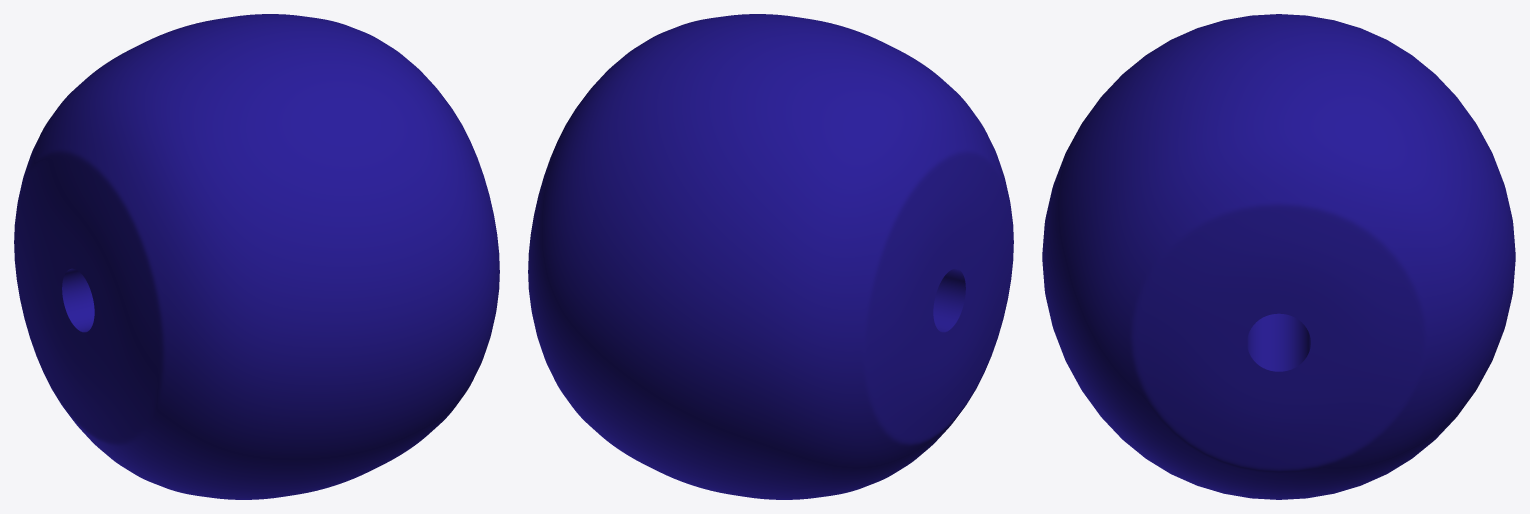
File: 蓝玛瑙.glb
3 renders of one model, left to right at view 1: azimuth 30°, elevation 25°; view 2: azimuth 150°, elevation 25°; view 3: azimuth 270°, elevation 25°, orthographic.
Visible parts, largest first — view 1: JewelCAD_2; view 2: JewelCAD_2; view 3: JewelCAD_2.
Boxes of the visible parts, <box> form: JewelCAD_2: <box>14,14,499,499</box>; JewelCAD_2: <box>528,14,1013,499</box>; JewelCAD_2: <box>1042,14,1515,499</box>.
Size of the model in its own units: 0.006 by 0.007 by 0.007.
